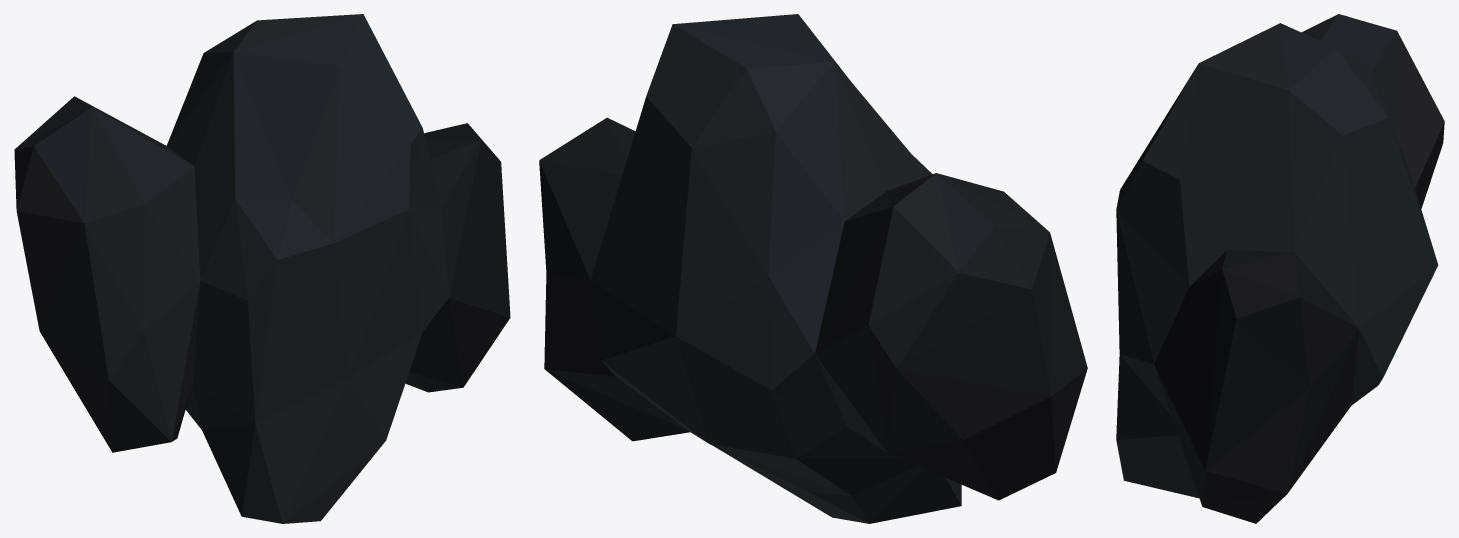
The model's file is rock_group_01.fbx.
3 views of the same model, side by side, from view 1: azimuth 30°, elevation 25°; view 2: azimuth 150°, elevation 25°; view 3: azimuth 270°, elevation 25° (orthographic). The views are drawn at different scales.
Parts seen in each view (by area): view 1: rock_group_01; view 2: rock_group_01; view 3: rock_group_01.
Part boxes in pixels (left/top/right/bottom): rock_group_01: left=14, top=14, right=510, bottom=523; rock_group_01: left=539, top=14, right=1087, bottom=523; rock_group_01: left=1116, top=14, right=1444, bottom=523.
Size of the model in its own units: 597 by 553 by 359.
